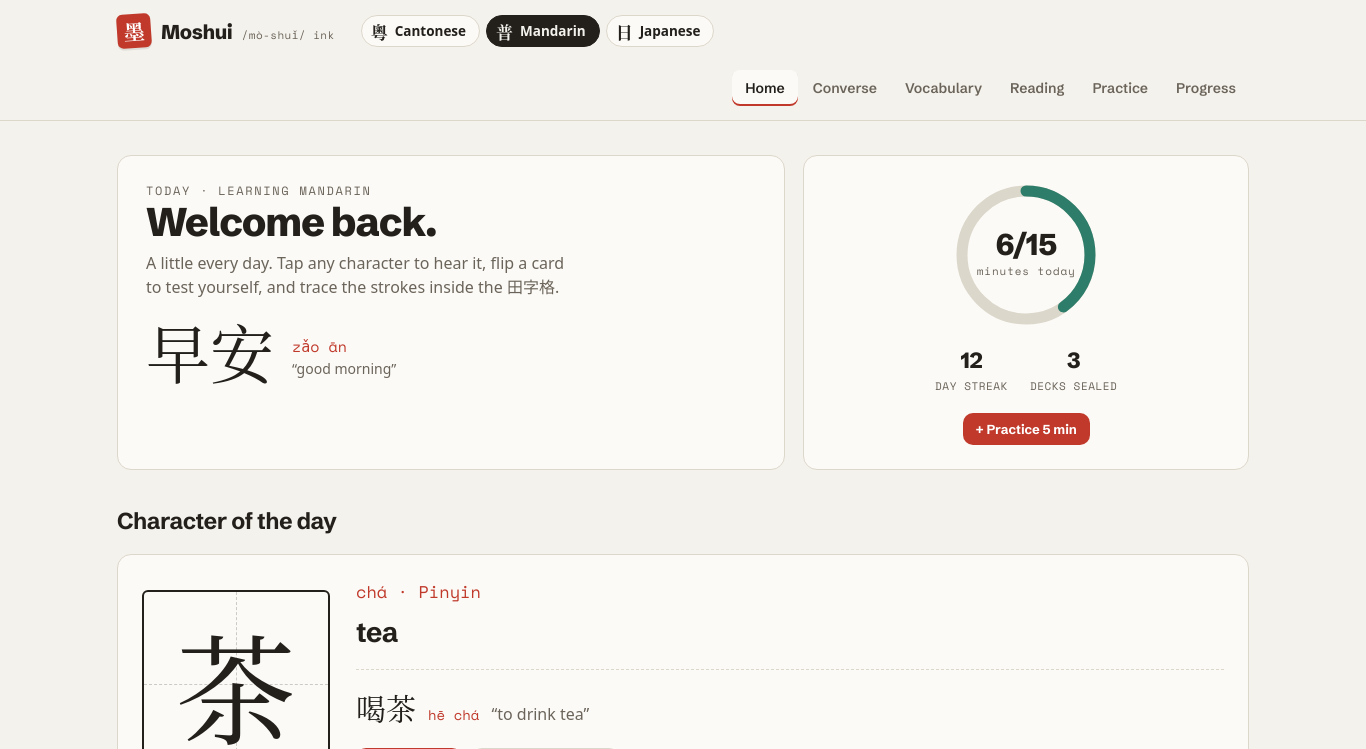
App loads and renders › switches to the Progress screen and shows deck mastery
Click the button "Progress" at (1206, 88), box left=1163, top=70, right=1249, bottom=106
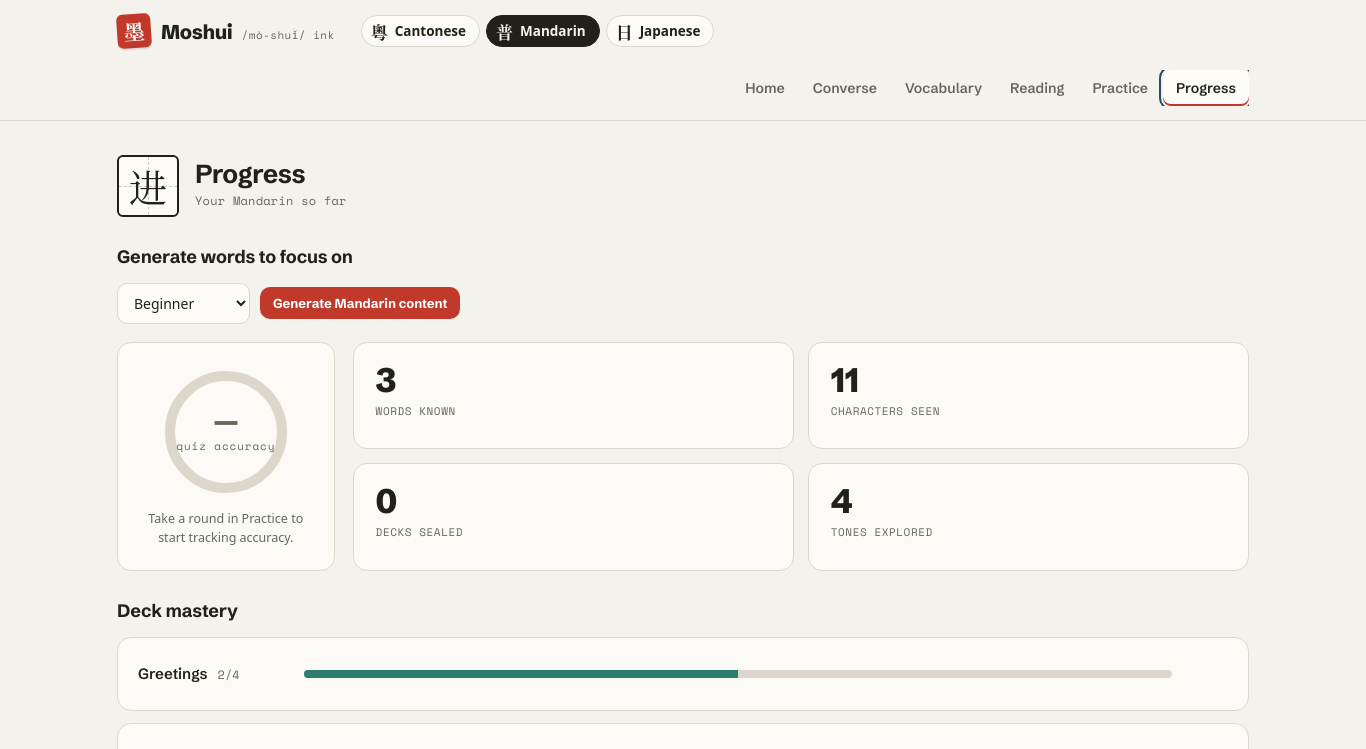
Expected: the heading "Progress" is shown, left=195, top=158, right=305, bottom=190
Expected: the heading "Deck mastery" is shown, left=117, top=599, right=238, bottom=622
